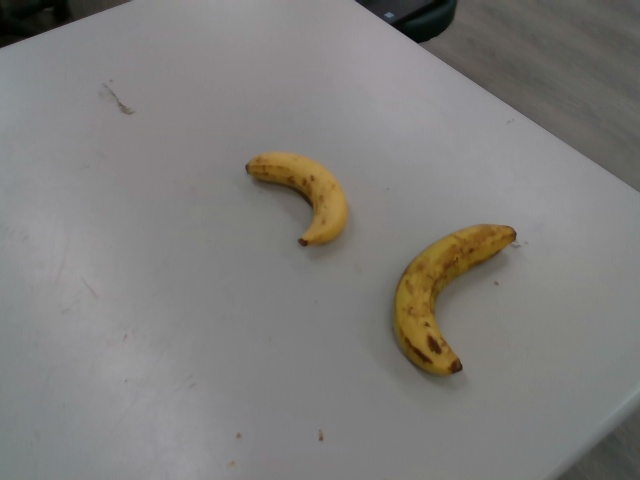banana: (390, 224, 515, 379), (244, 149, 350, 247)
